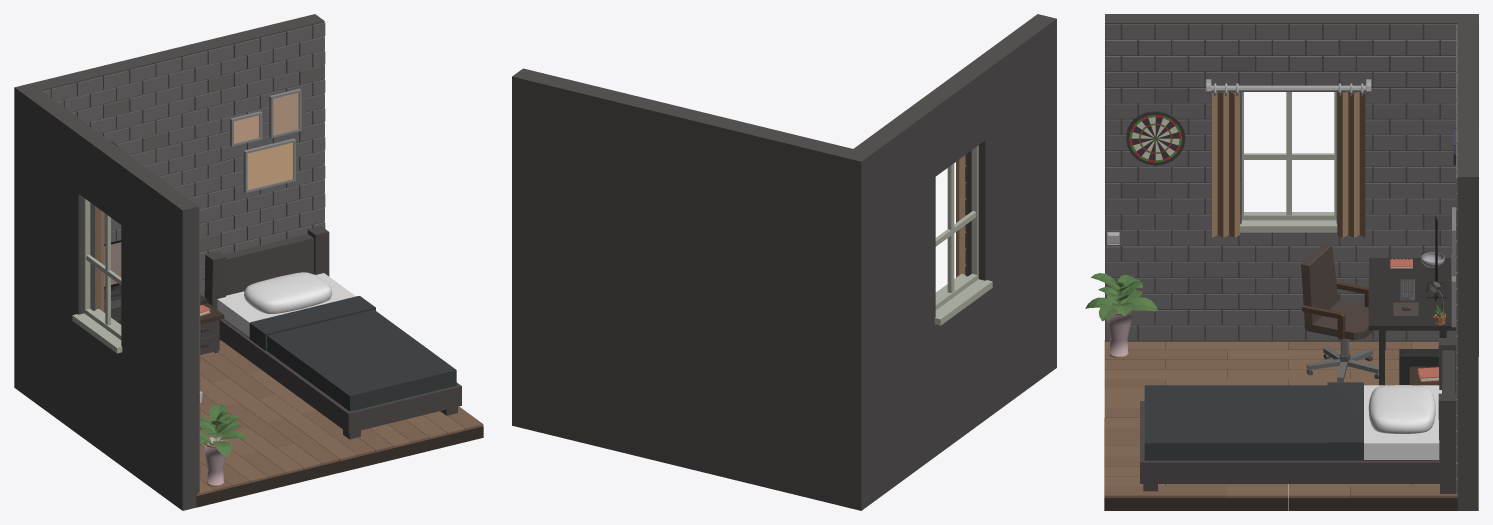
The model's file is NewRoom.gltf.
3 renders of one model, left to right at view 1: azimuth 30°, elevation 25°; view 2: azimuth 150°, elevation 25°; view 3: azimuth 270°, elevation 25°, orthographic. The views are drawn at different scales.
Parts seen in each view (by area): view 1: Wall_02, Wall_01, Bed, Floor, Bed_01, Picture_01, Picture_02, Flower_03, Picture_03, Bed_Table, Curtains, Flower_02 (+1 smaller); view 2: Wall_01, Wall_02, Curtains; view 3: Wall_02, Bed, Floor, Wall_01, Curtains, OfficeChair, Table, Bed_01, Darts, Flower_03, PC, Flower_02.
Boxes of the visible parts, x1,y1,x2,y2 form: Wall_02: (14,83,200,510); Wall_01: (31,14,325,324); Bed: (204,226,461,439); Floor: (196,340,483,507); Bed_01: (244,272,331,313); Picture_01: (243,138,295,193); Picture_02: (269,88,301,138); Flower_03: (199,404,247,457); Picture_03: (230,111,262,146); Bed_Table: (199,302,224,354); Curtains: (95,207,104,311); Flower_02: (204,436,227,486); Wall_01: (512,68,855,505); Wall_02: (842,14,1056,510); Curtains: (956,155,966,277); Wall_02: (1105,14,1478,356); Bed: (1140,338,1455,493); Floor: (1104,340,1457,510); Wall_01: (1456,21,1478,510); Curtains: (1205,79,1371,237); OfficeChair: (1301,243,1378,382); Table: (1368,258,1455,385); Bed_01: (1368,385,1435,433); Darts: (1126,111,1185,165); Flower_03: (1085,273,1157,321); PC: (1399,349,1438,384); Flower_02: (1107,310,1131,357).
Size of what is drawn, in the model's own units: 2.92 by 2.74 by 2.93.
